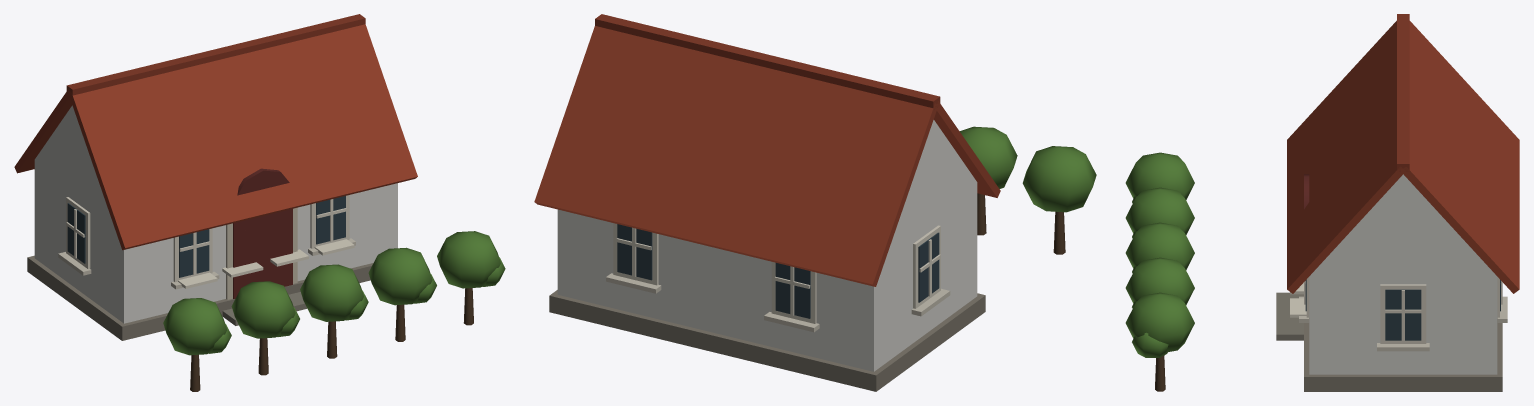
Rendered from procedural_silk_farm@4.glb.
3 views of the same model, side by side, from view 1: azimuth 30°, elevation 25°; view 2: azimuth 150°, elevation 25°; view 3: azimuth 270°, elevation 25° (orthographic). The views are drawn at different scales.
Visible parts, largest first — view 1: part_0; view 2: part_0; view 3: part_0.
Boxes of the visible parts, x1=… form: part_0: x1=14, y1=14, x2=505, y2=391; part_0: x1=534, y1=14, x2=1096, y2=391; part_0: x1=1125, y1=14, x2=1519, y2=391.
Size of the model in its own units: 7.26 by 4.61 by 7.13.
